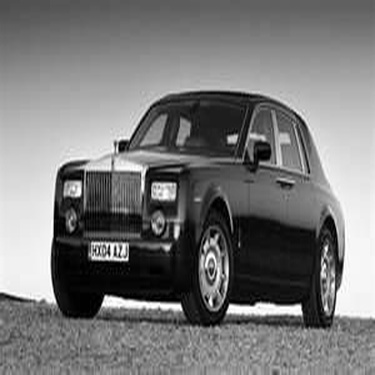car: (35, 81, 351, 331)
